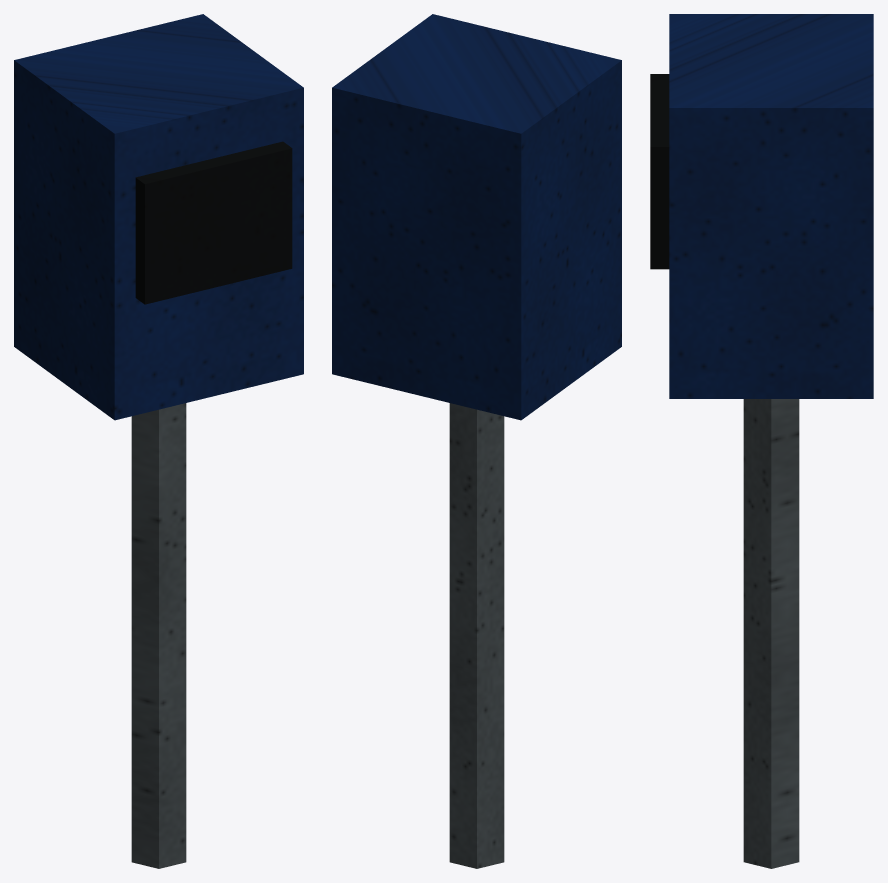
The model's file is PROP-D754A11E670E_lod2.glb.
3 views of the same model, side by side, from view 1: azimuth 30°, elevation 25°; view 2: azimuth 150°, elevation 25°; view 3: azimuth 270°, elevation 25° (orthographic).
Visible parts, largest first — view 1: cabinet.012, fixture_post.007, recessed_front.012; view 2: cabinet.012, fixture_post.007; view 3: cabinet.012, fixture_post.007, recessed_front.012.
Part boxes in pixels (box(x1,y1,x2,y2)): cabinet.012: box(14, 14, 303, 420); fixture_post.007: box(131, 403, 186, 868); recessed_front.012: box(135, 141, 292, 304); cabinet.012: box(332, 14, 621, 420); fixture_post.007: box(449, 403, 504, 868); cabinet.012: box(669, 14, 873, 398); fixture_post.007: box(743, 399, 799, 868); recessed_front.012: box(650, 74, 669, 269).
Bounding box in the file's own units: 0.38 × 1.5 × 0.3825.
3 materials, 3 textured.
